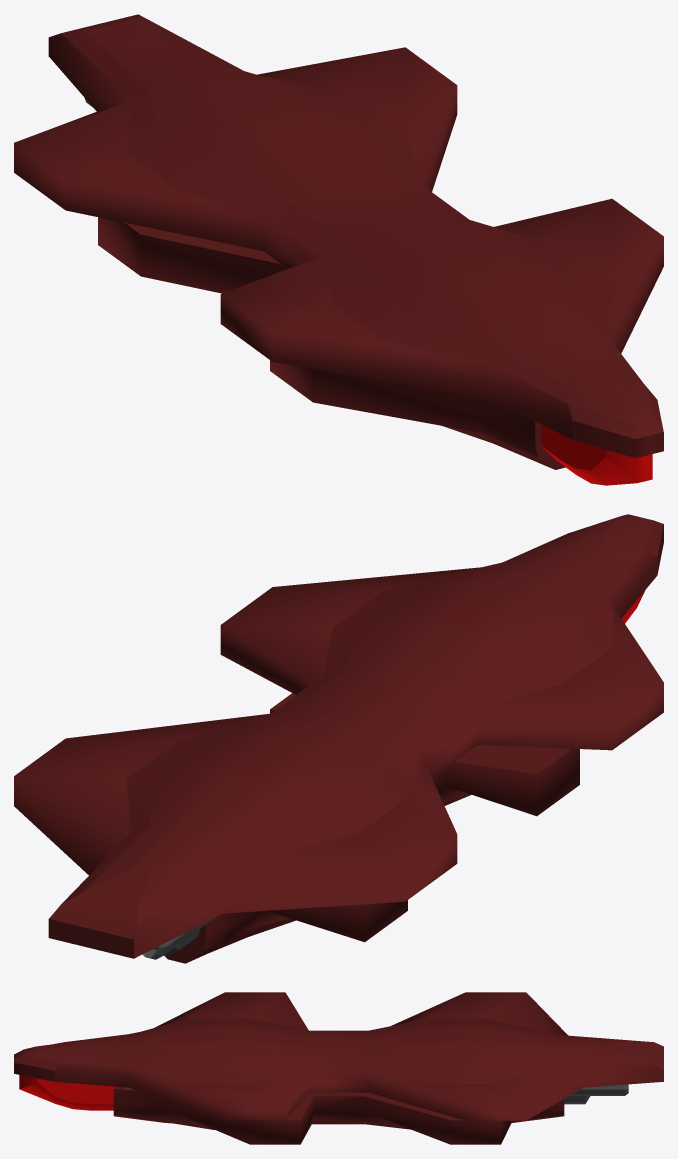
Rendered from Alien_ship.fbx.
3 renders of one model, top to bottom at view 1: azimuth 30°, elevation 25°; view 2: azimuth 150°, elevation 25°; view 3: azimuth 270°, elevation 25°, orthographic. The views are drawn at different scales.
Parts seen in each view (by area): view 1: Alien_ship; view 2: Alien_ship; view 3: Alien_ship.
Boxes of the visible parts, x1=… form: Alien_ship: x1=14, y1=14, x2=663, y2=485; Alien_ship: x1=14, y1=514, x2=663, y2=963; Alien_ship: x1=14, y1=992, x2=663, y2=1144.
Bounding box in the file's own units: 7.2 × 2.53 × 17.79.
